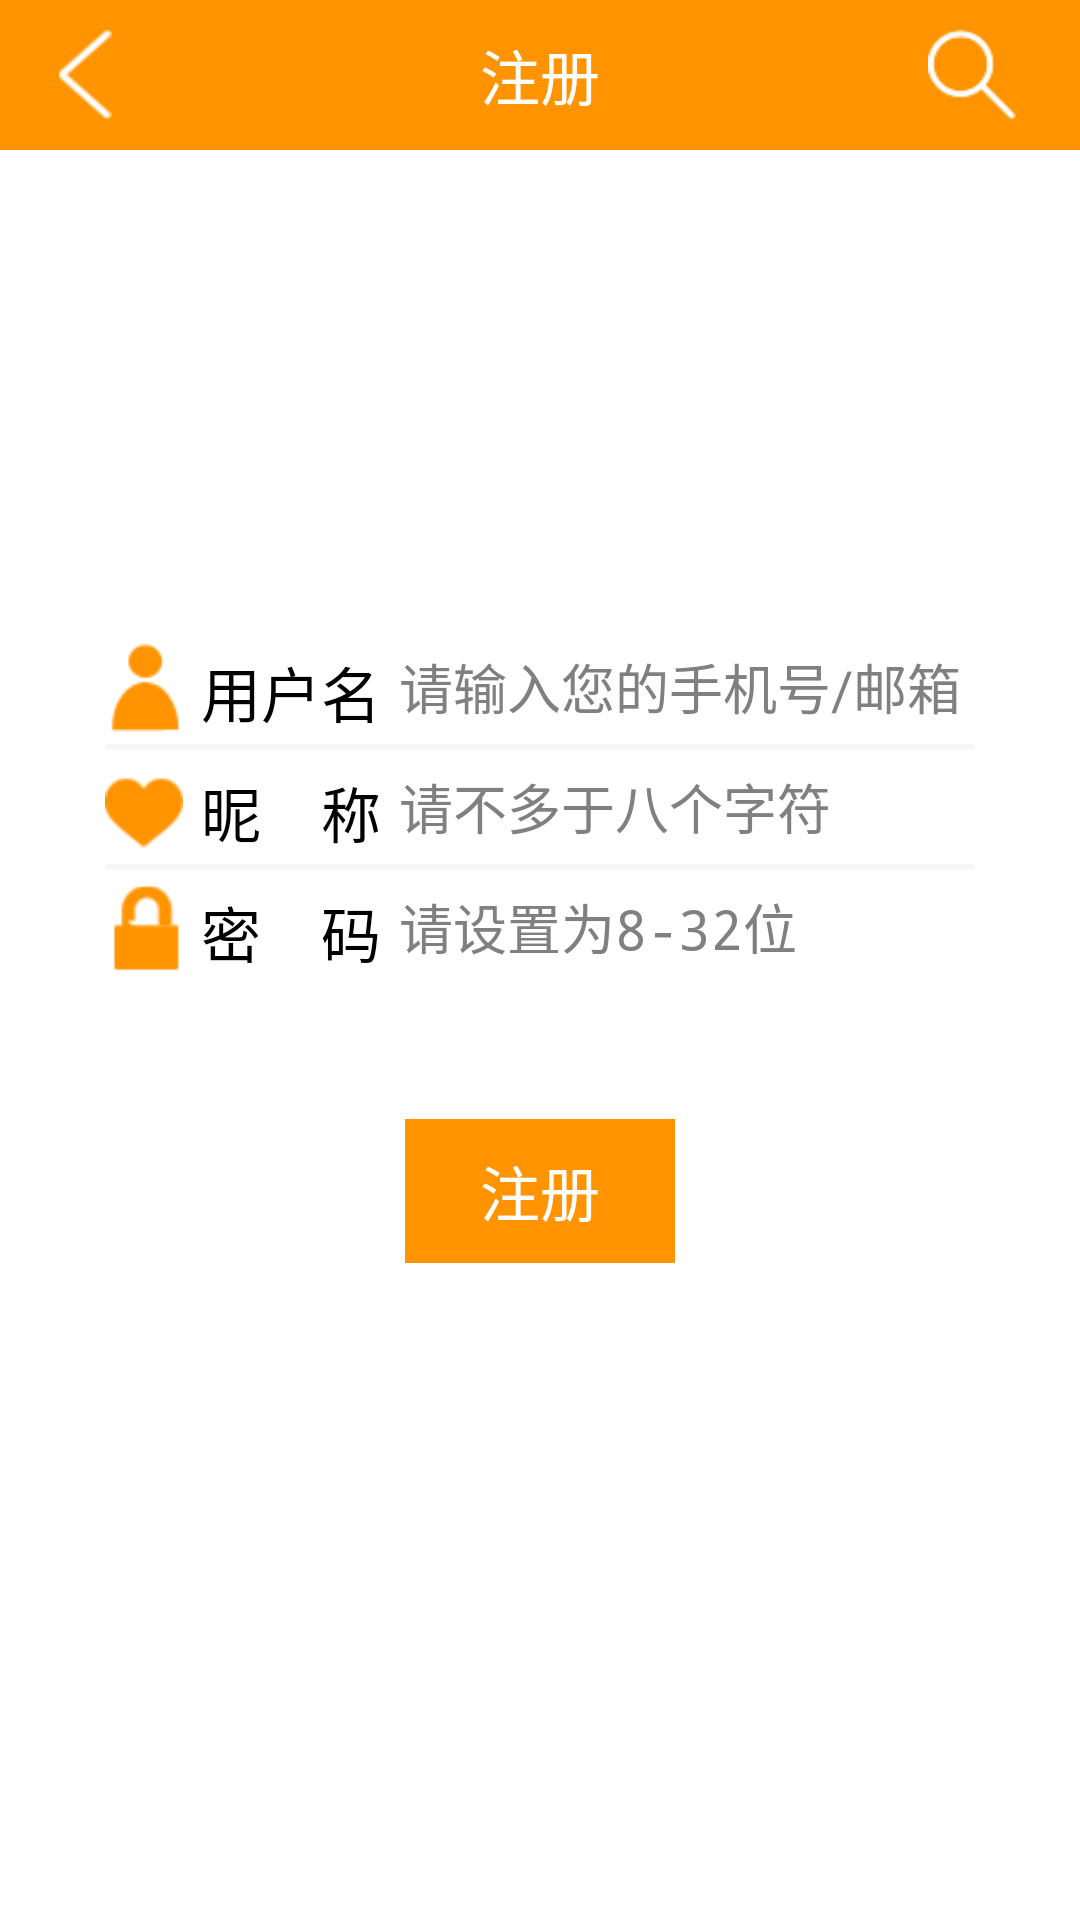

Icons on this 1080 × 1920 Android screen, each with the point to tap as point (x, y):
back: point (85, 75)
search: point (972, 75)
